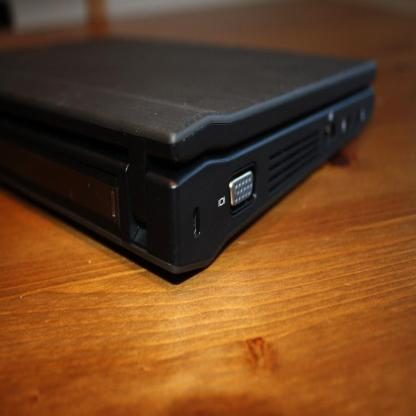board: (9, 31, 379, 264)
